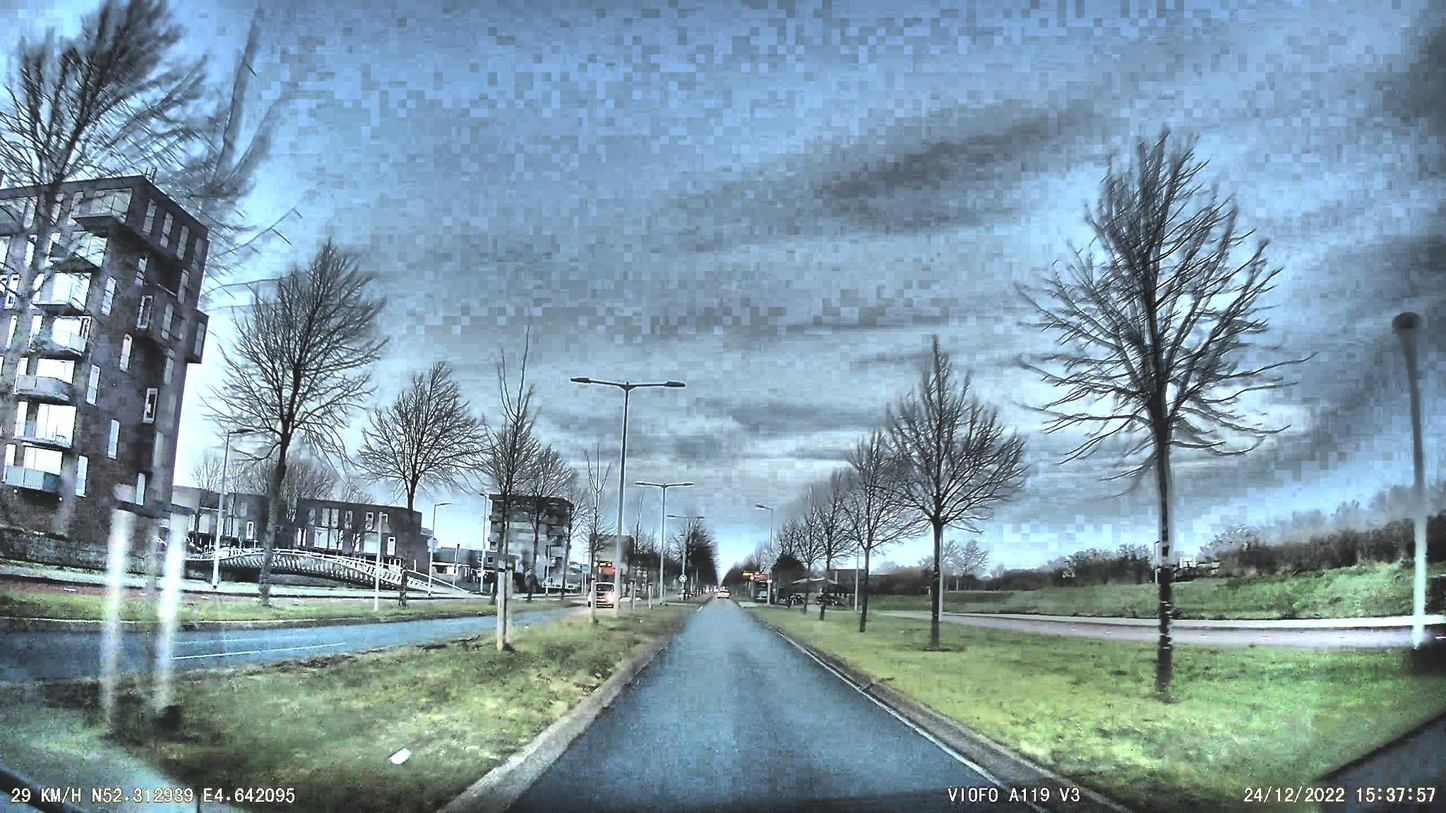Roads: (426, 606, 1135, 813)
